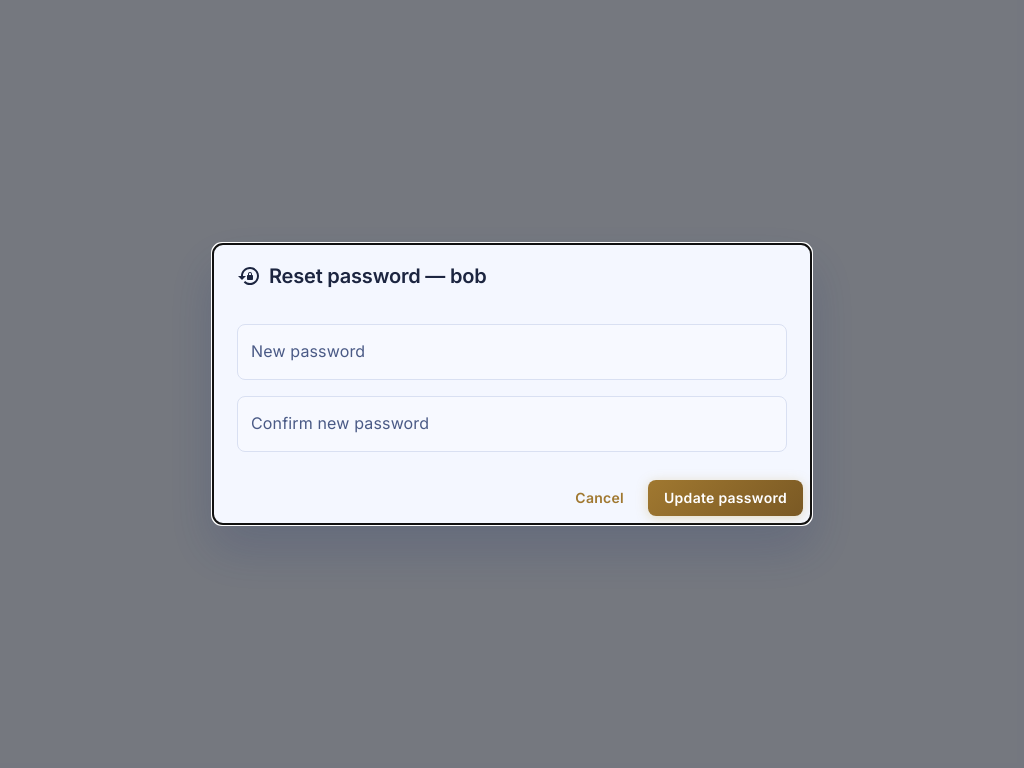
ResetPasswordModal › shows server field errors for password
In the password field labelled "New password": point(512, 352) [237,324,787,380], type "abcdefgh1!"
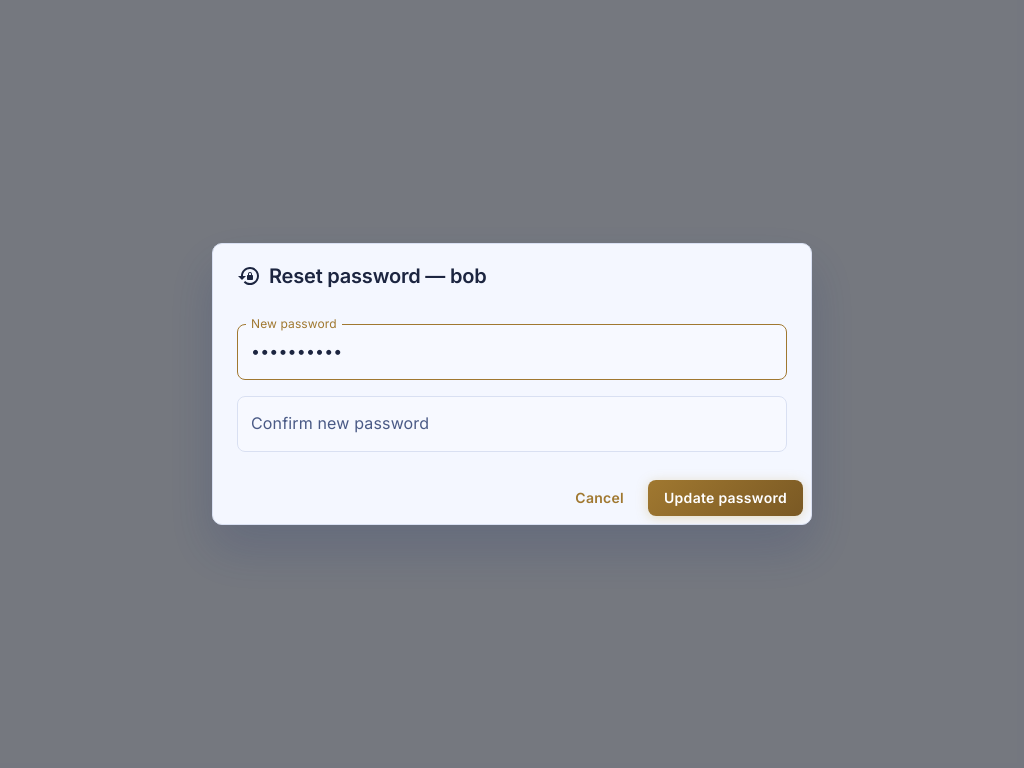
In the password field labelled "Confirm new password": point(512, 424) [237,396,787,452], type "abcdefgh1!"
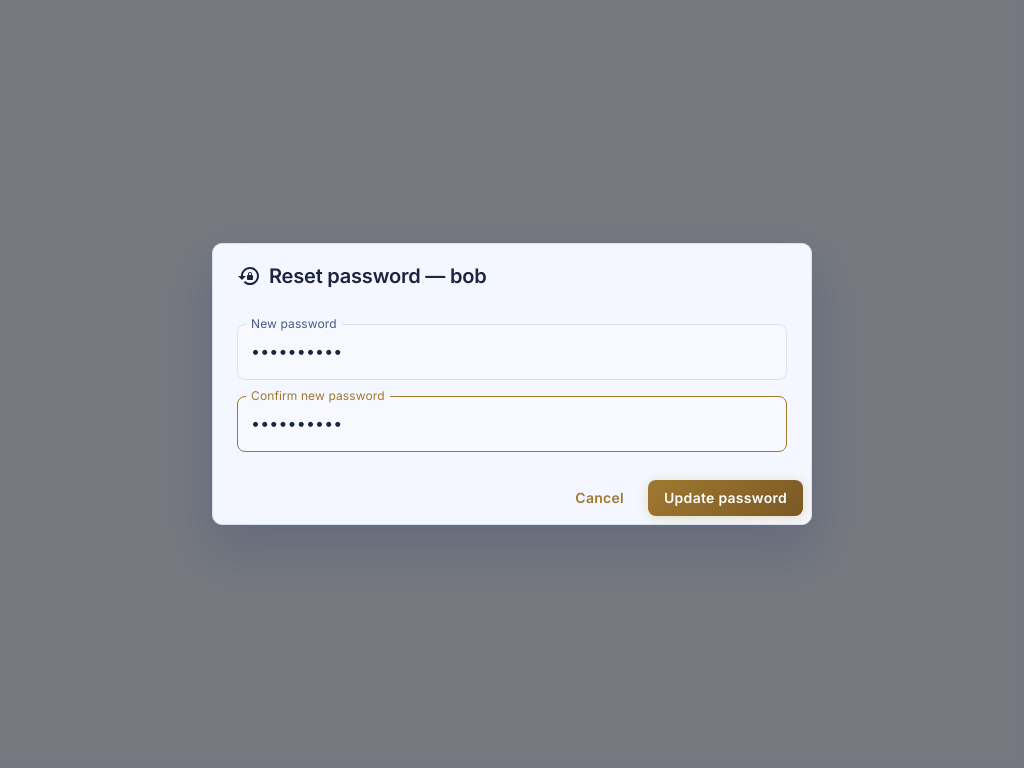
Click the button "Update password": point(726, 498) [648,480,803,516]
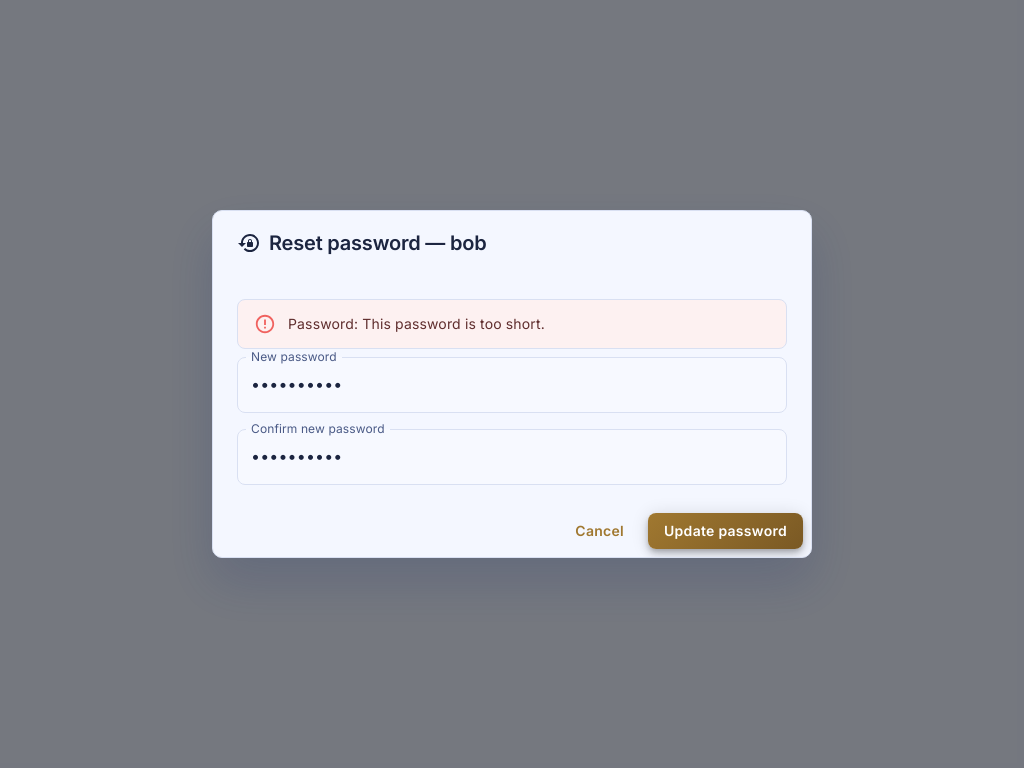
Check: the text "Password: This password is too short." is shown, box [288,315,545,332]
